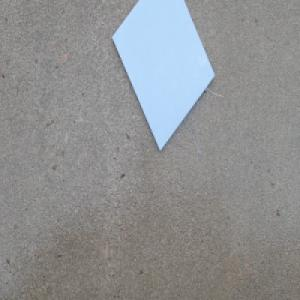PaintChip: (111, 0, 216, 151)
